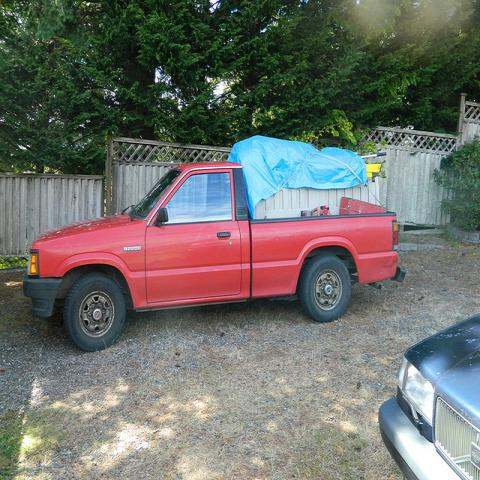car: (377, 311, 479, 479)
truck: (21, 159, 408, 352)
